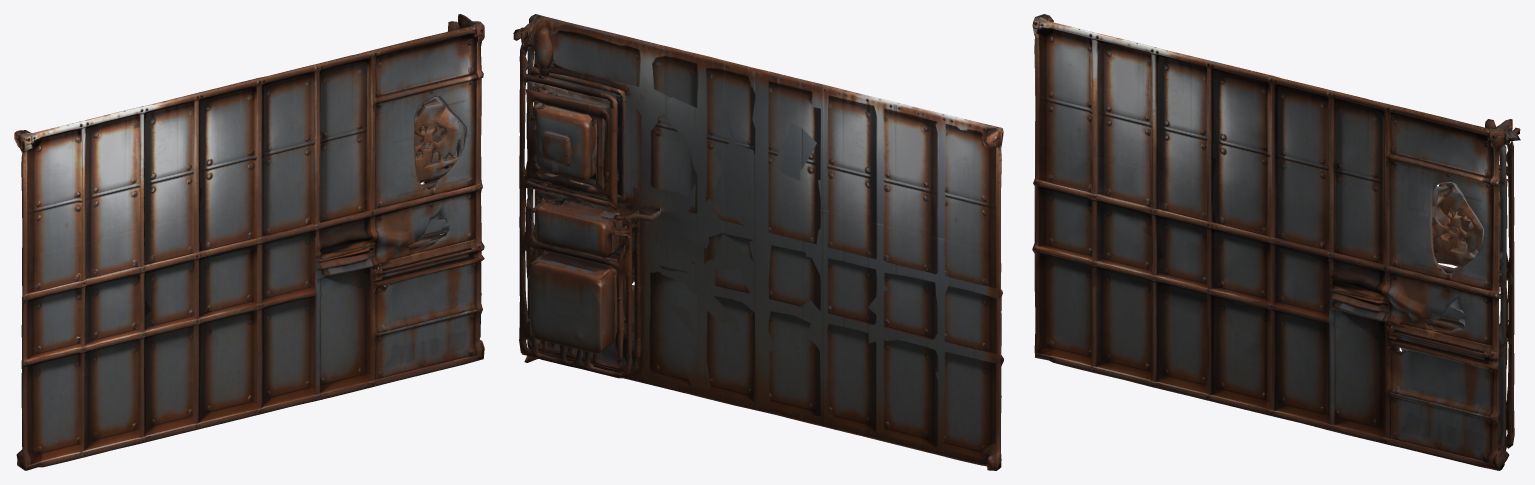
Rendered from Wall03.glb.
3 views of the same model, side by side, from view 1: azimuth 30°, elevation 25°; view 2: azimuth 150°, elevation 25°; view 3: azimuth 330°, elevation 25° (orthographic).
Size of the model in its own units: 2 by 1.37 by 0.2273.
Materials: 1 (1 with a texture image).
